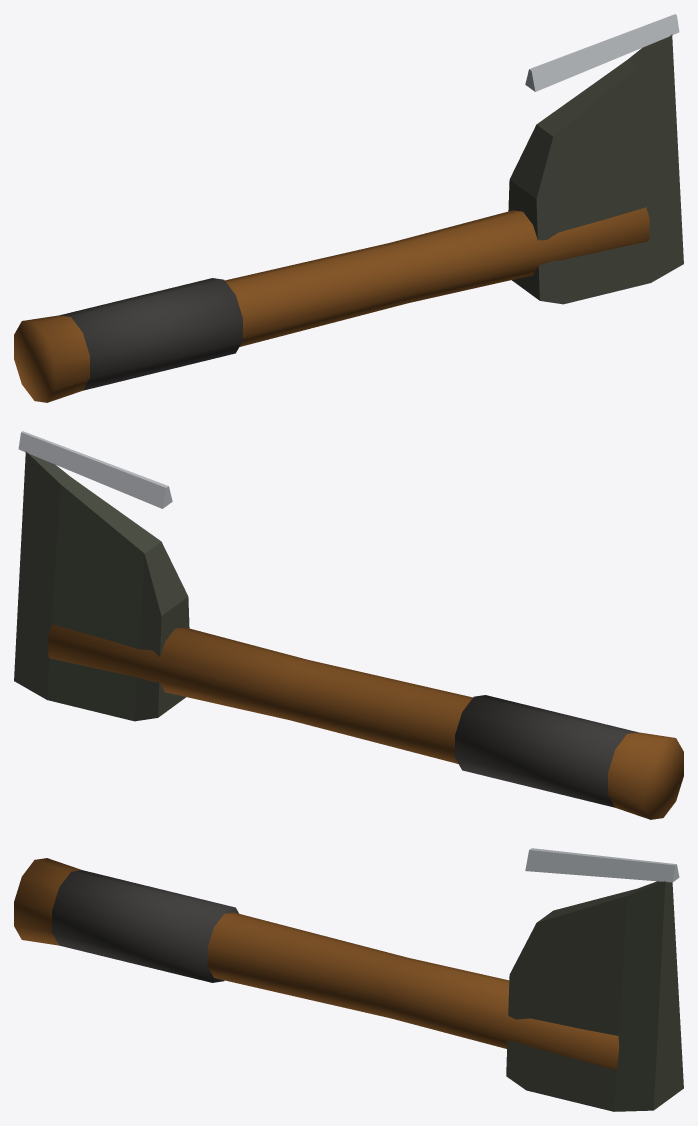
File: held_hatchet.glb
3 views of the same model, one above another, from view 1: azimuth 30°, elevation 25°; view 2: azimuth 150°, elevation 25°; view 3: azimuth 330°, elevation 25° (orthographic).
Parts seen in each view (by area): view 1: head, haft, grip, edge; view 2: head, haft, grip, edge; view 3: head, haft, grip, edge.
Part boxes in pixels (bbox=[...]): head: bbox=[508, 34, 683, 304]; haft: bbox=[14, 207, 649, 402]; grip: bbox=[60, 278, 242, 390]; edge: bbox=[525, 14, 679, 91]; head: bbox=[14, 451, 189, 721]; haft: bbox=[48, 624, 683, 819]; grip: bbox=[455, 695, 637, 807]; edge: bbox=[18, 431, 172, 508]; head: bbox=[506, 881, 683, 1111]; haft: bbox=[14, 858, 619, 1069]; grip: bbox=[52, 870, 238, 982]; edge: bbox=[525, 848, 679, 882].
Bounding box in the file's own units: 0.44 × 0.16 × 0.0488.
